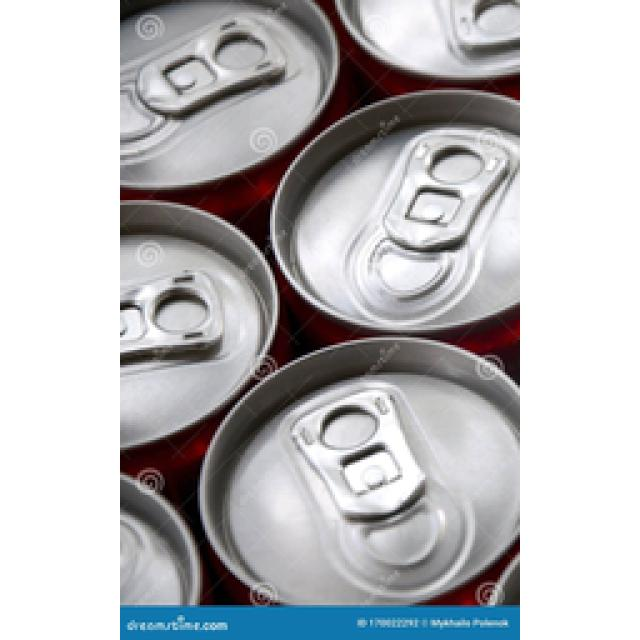aluminum_soda_cans: (216, 337, 522, 610), (275, 87, 518, 315), (119, 0, 348, 193), (120, 193, 275, 442)
